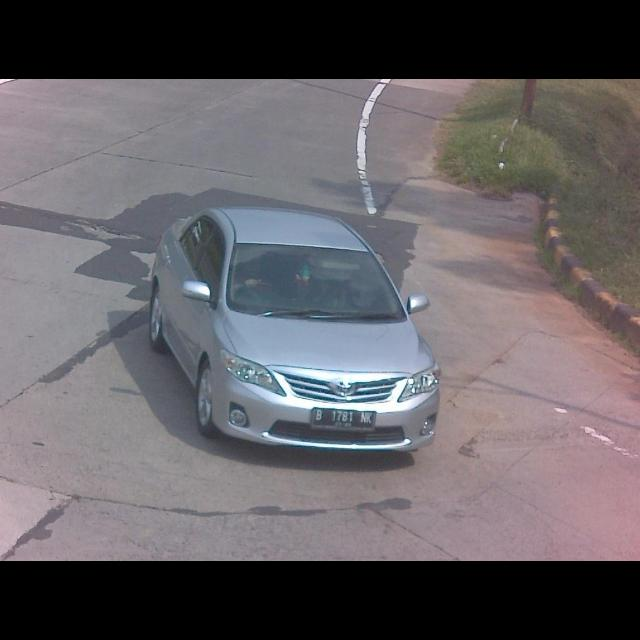plate: (309, 406, 379, 430)
